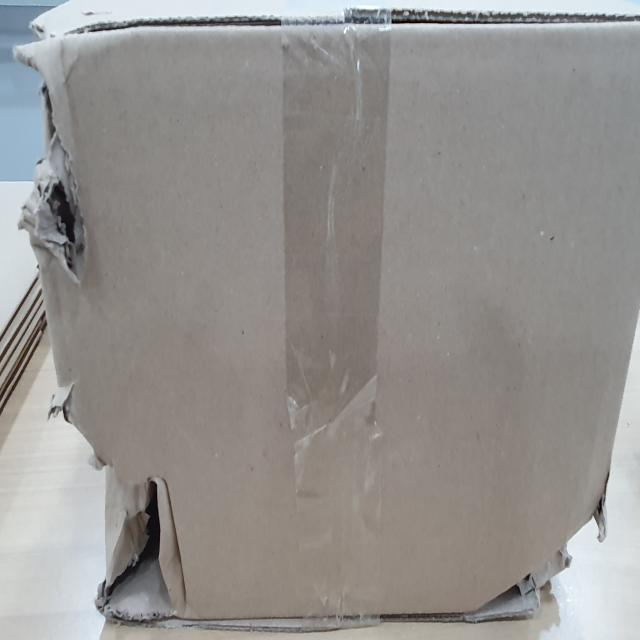hole: (70, 397, 190, 625), (464, 480, 620, 616), (29, 28, 87, 282)
